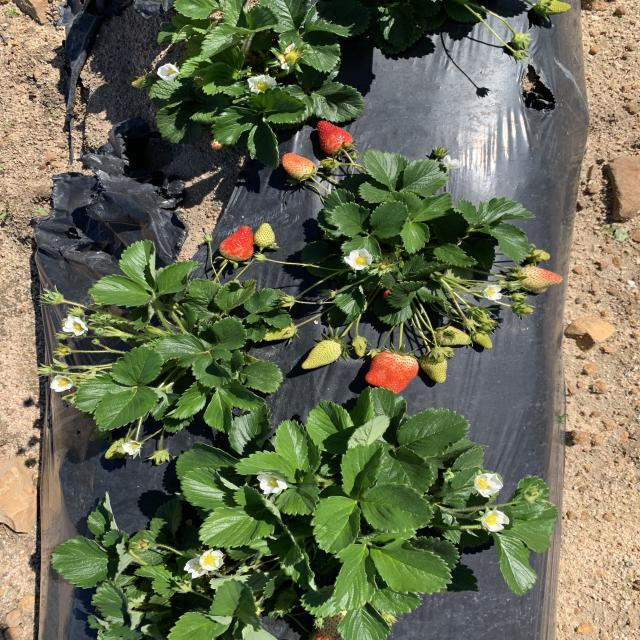unripe: (362, 349, 418, 392), (312, 119, 359, 160), (216, 223, 254, 262)
